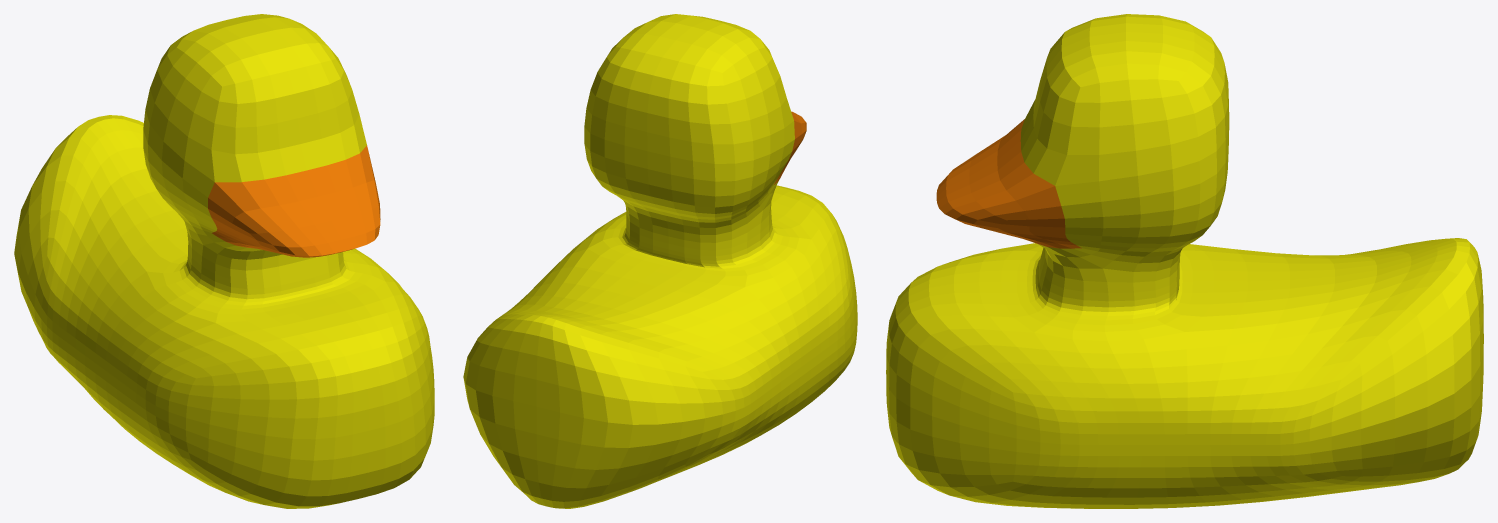
The model's file is Rubber Duck No Eyes.fbx.
3 views of the same model, side by side, from view 1: azimuth 30°, elevation 25°; view 2: azimuth 150°, elevation 25°; view 3: azimuth 270°, elevation 25° (orthographic). The views are drawn at different scales.
Parts seen in each view (by area): view 1: Cube; view 2: Cube; view 3: Cube.
Part boxes in pixels (x1=…): Cube: x1=14, y1=14, x2=434, y2=508; Cube: x1=463, y1=14, x2=857, y2=508; Cube: x1=886, y1=14, x2=1483, y2=508.
Size of the model in its own units: 321 by 465 by 573.
